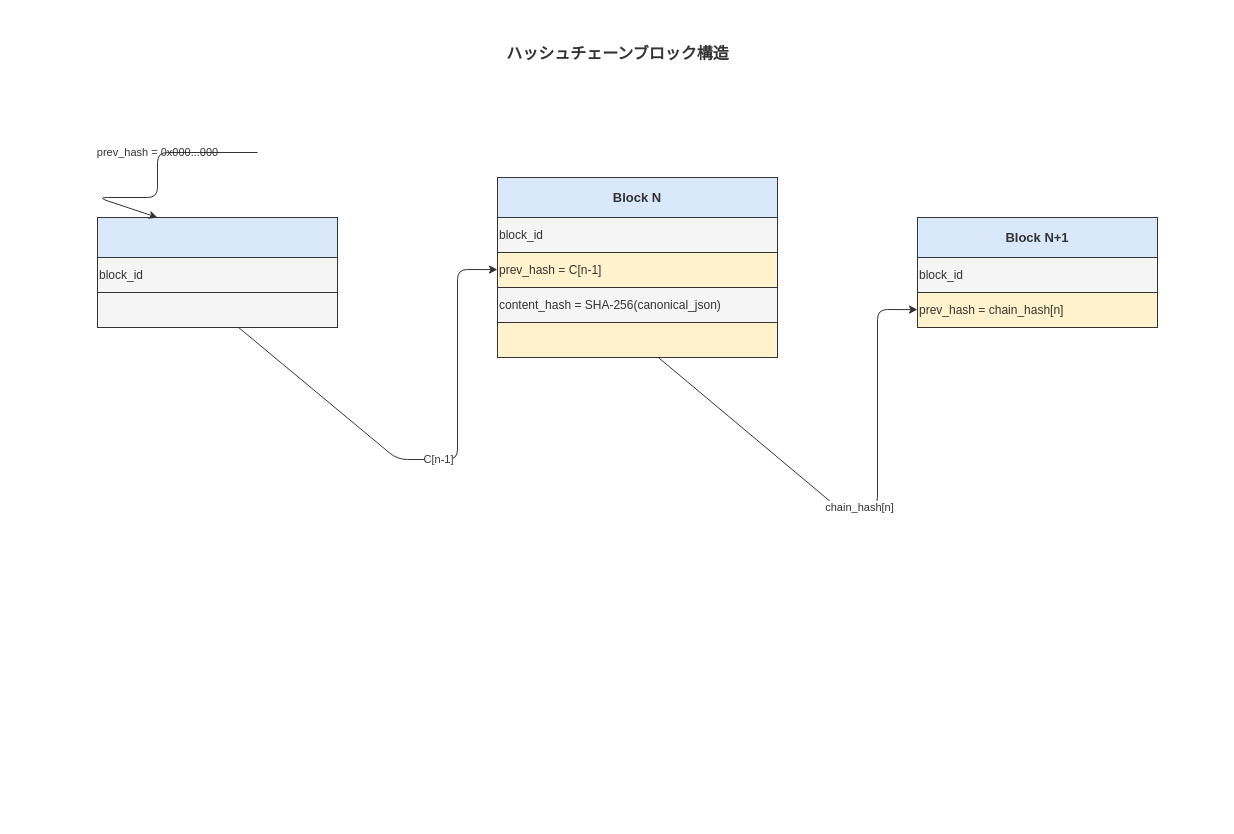
This 1234x834 diagram has some shape labels left out. The shapes that lost their labels are listed below. From the top down, each one's centre as x and y in pixels, then its label:
the point at 217,237: Block N-1
the point at 217,310: content_hash: C[n-1]
the point at 637,340: chain_hash = SHA-256(prev||content)
